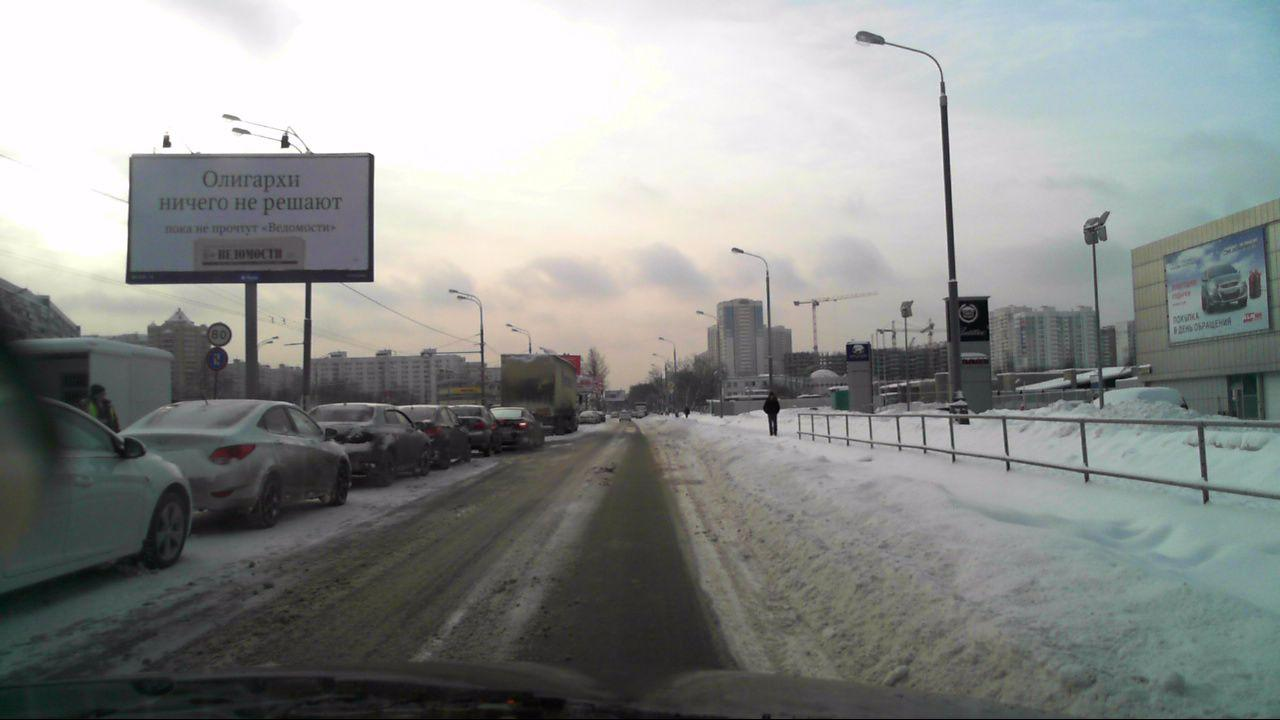3_24: (207, 323, 233, 346)
3_30: (203, 348, 228, 372)
